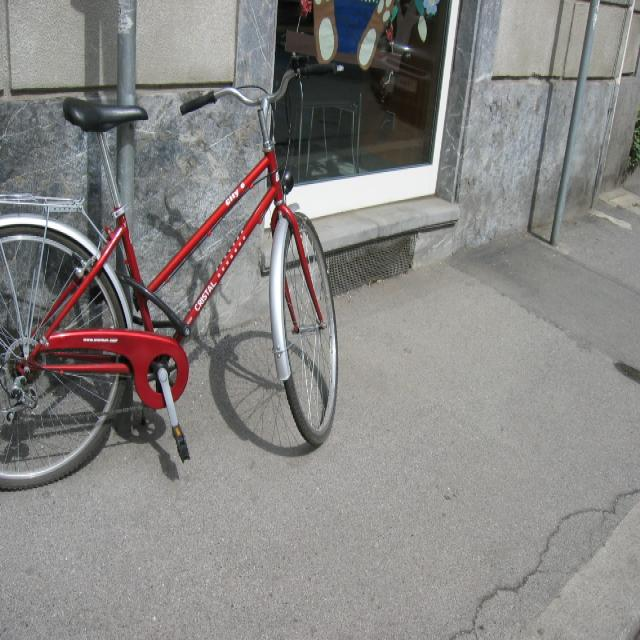bicycle: (0, 51, 343, 489)
